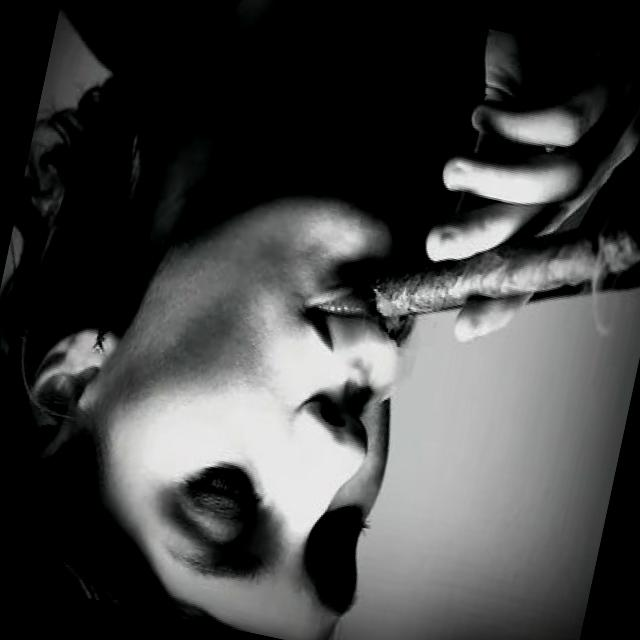smoke: (359, 169, 640, 374)
